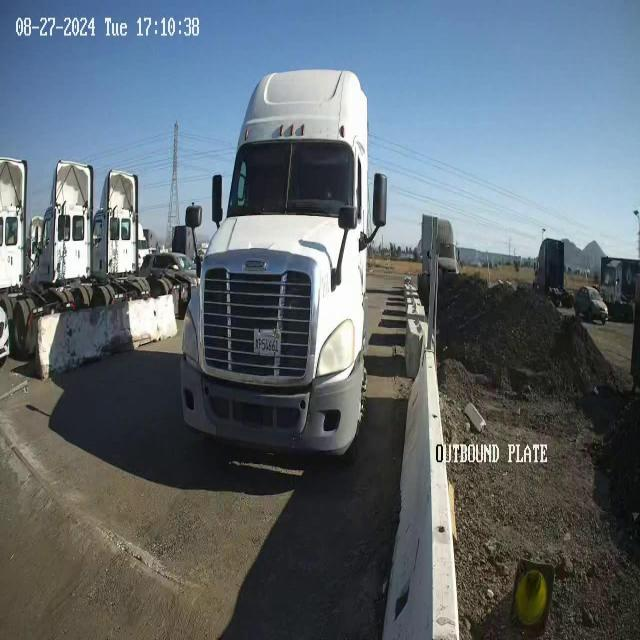TRUCK_OUT: (179, 67, 388, 460)
